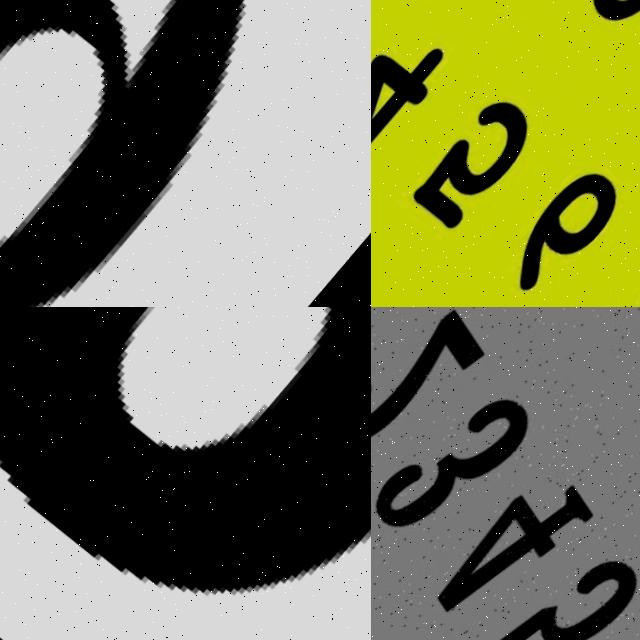0: (545, 0, 640, 75)
1: (371, 307, 477, 429)
2: (371, 307, 526, 546)
3: (371, 352, 571, 591)
4: (392, 423, 638, 640), (371, 5, 476, 187)
5: (379, 76, 566, 272), (422, 504, 640, 640)
6: (468, 147, 640, 307), (501, 574, 640, 640)
9: (0, 0, 371, 307)
O: (0, 307, 371, 640)
